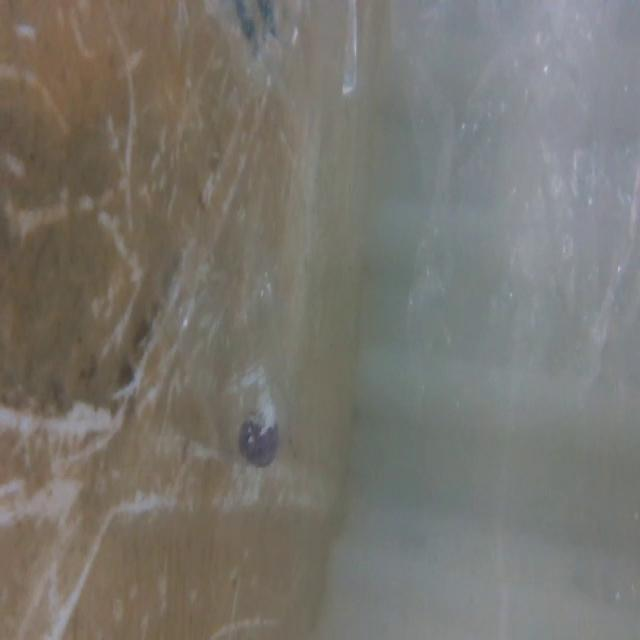plastic bags: (409, 0, 640, 418), (166, 0, 375, 128)
plastic bottle: (160, 186, 312, 475)
